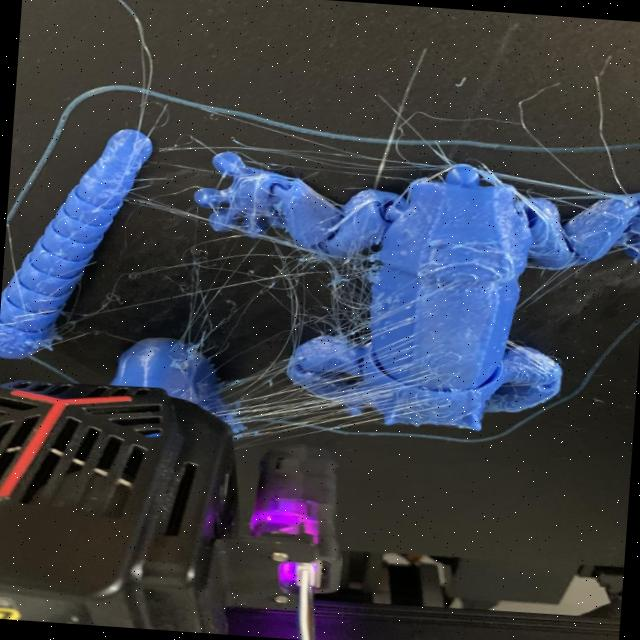stringing: (212, 354, 398, 457), (156, 239, 272, 359), (253, 245, 381, 352), (116, 144, 232, 237), (258, 133, 425, 190)
